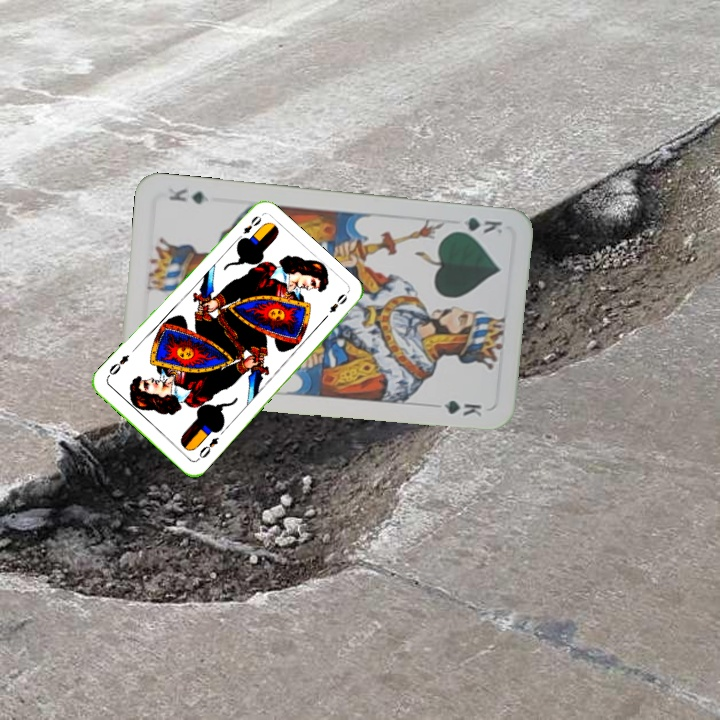EO: (232, 212, 264, 245), (193, 433, 221, 463)
GK: (448, 213, 505, 238)
